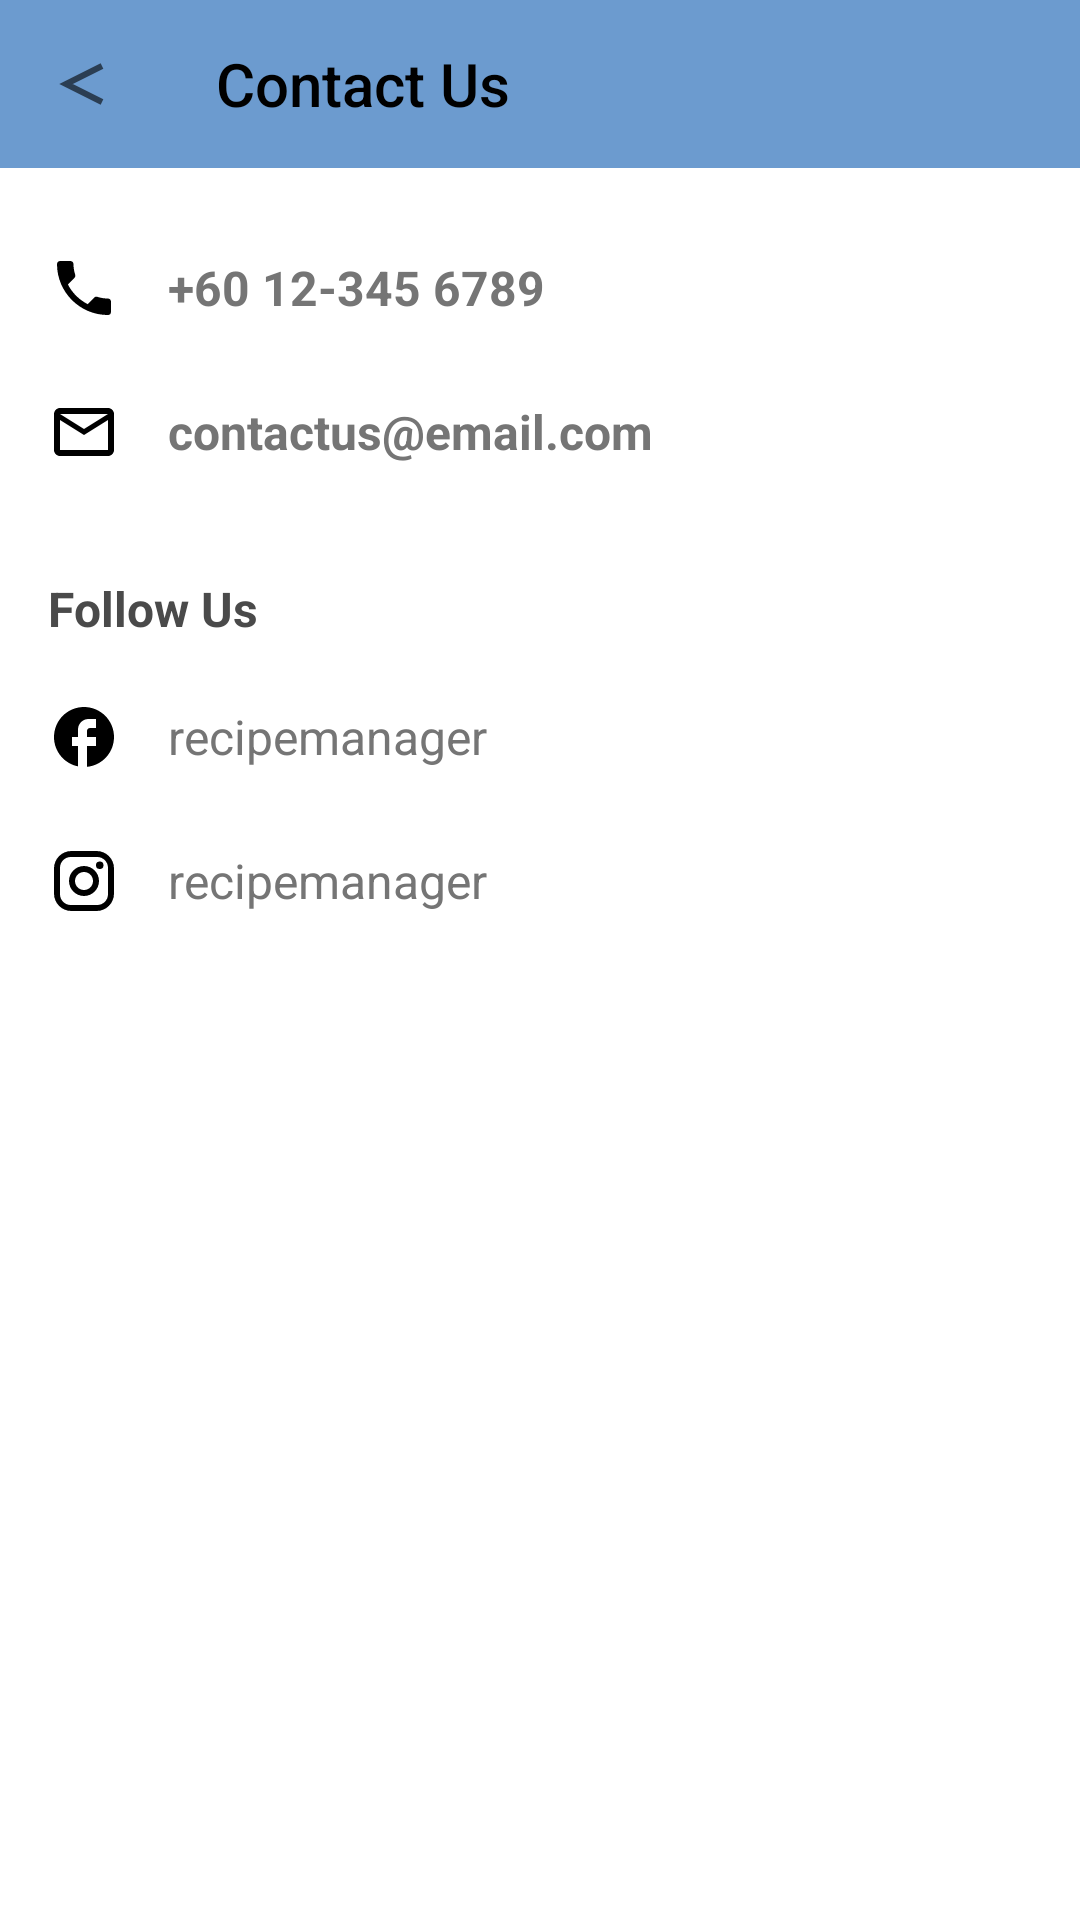

Icon bounding boxes for this 1080px x 1920px phone screenshot, format (x1, y1, x2, y2):
Contact email address: (54, 408, 114, 456)
Contact phone number: (57, 261, 111, 315)
